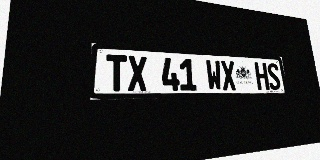1: (178, 58, 197, 91)
4: (161, 57, 180, 91)
H: (254, 62, 270, 90)
S: (266, 63, 281, 90)
T: (106, 54, 127, 91)
W: (205, 60, 223, 90)
X: (127, 55, 148, 91), (220, 60, 237, 90)
